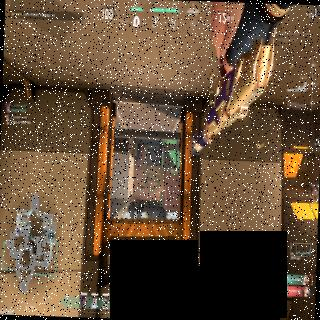ENEMY-BODY: (158, 144, 162, 158)
ENEMY-HEAD: (160, 156, 161, 158)
